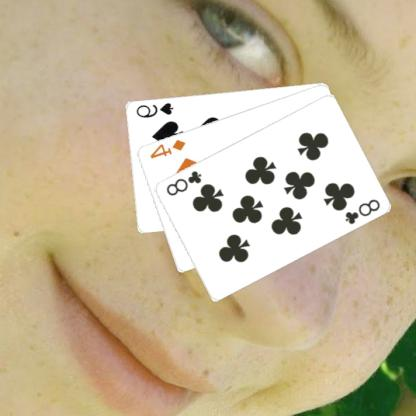4D: (149, 136, 188, 160)
8C: (343, 196, 383, 226), (165, 168, 204, 197)
9S: (135, 100, 176, 119)
